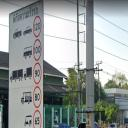speed_limit_100: (33, 39, 42, 61)
speed_limit_120: (32, 16, 42, 38)
speed_limit_80: (33, 86, 42, 109)
speed_limit_90: (33, 62, 42, 84)
